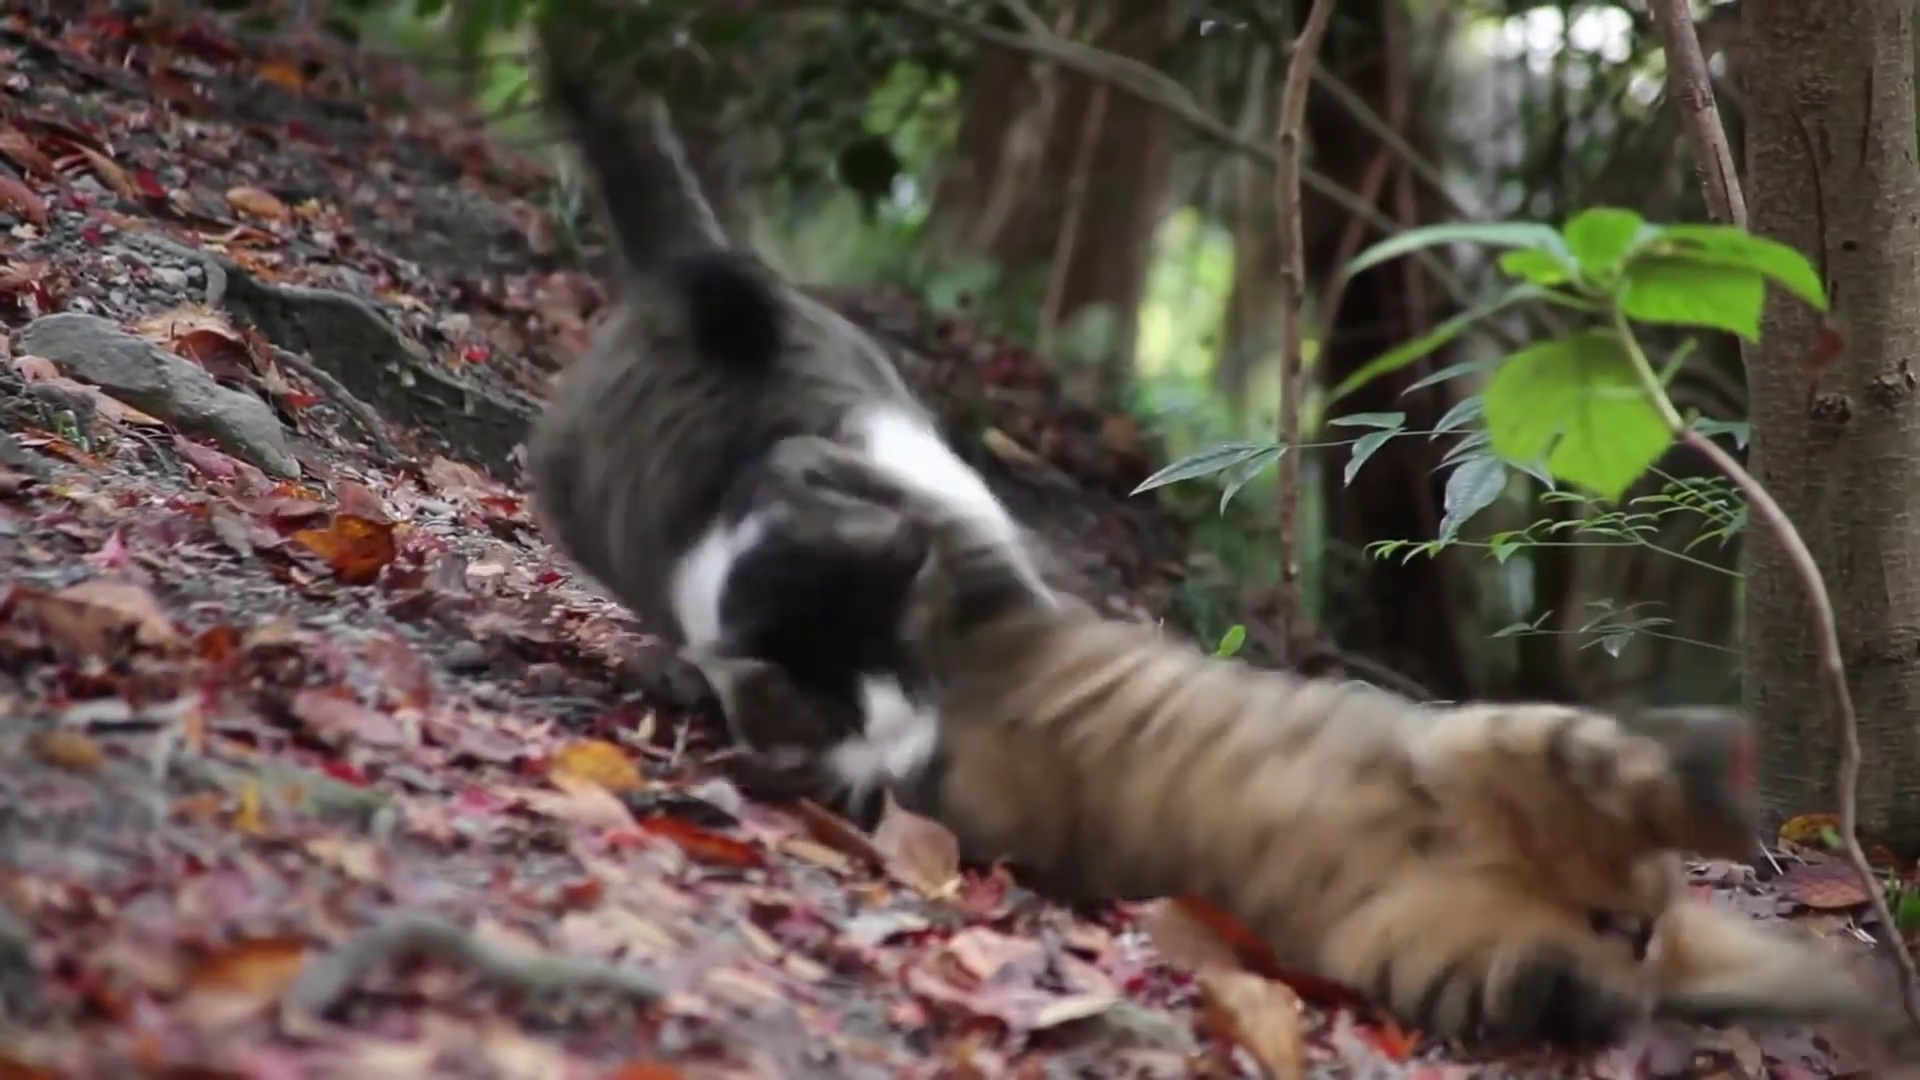black-white: (525, 248, 1044, 815)
pure black: (916, 593, 1684, 1052)
